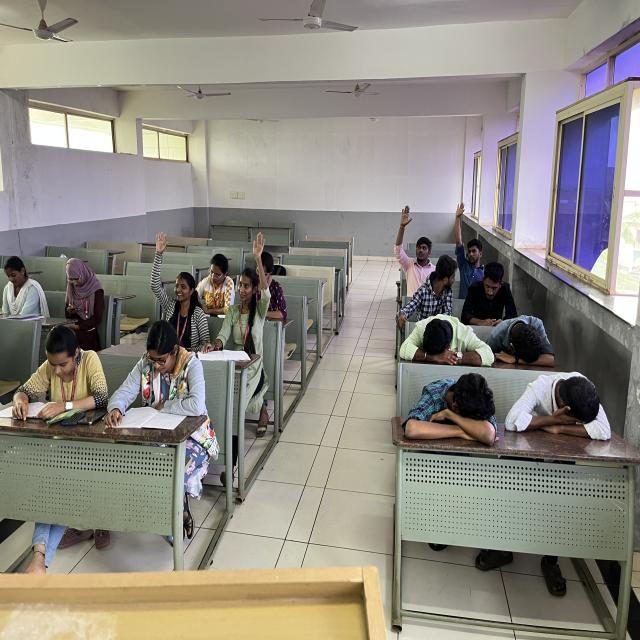Hand Rising: (147, 217, 206, 346), (220, 229, 274, 369), (392, 198, 436, 294), (452, 196, 493, 284)
Reading: (106, 316, 213, 426), (10, 320, 103, 424), (0, 248, 46, 326)
Sleeping: (499, 363, 619, 450), (399, 363, 509, 449), (394, 306, 500, 378), (484, 304, 562, 376)
Using Phone: (56, 253, 107, 323)
